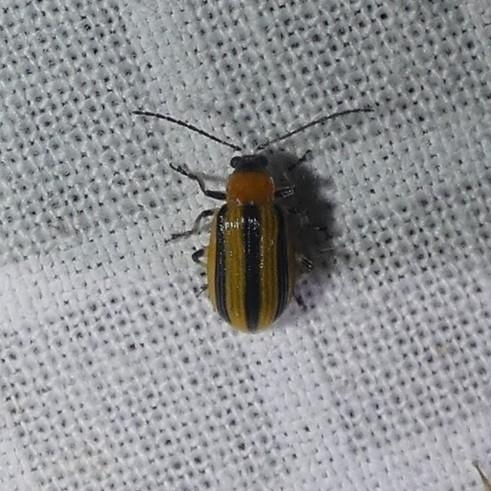potato_beetle: (97, 69, 401, 355)
